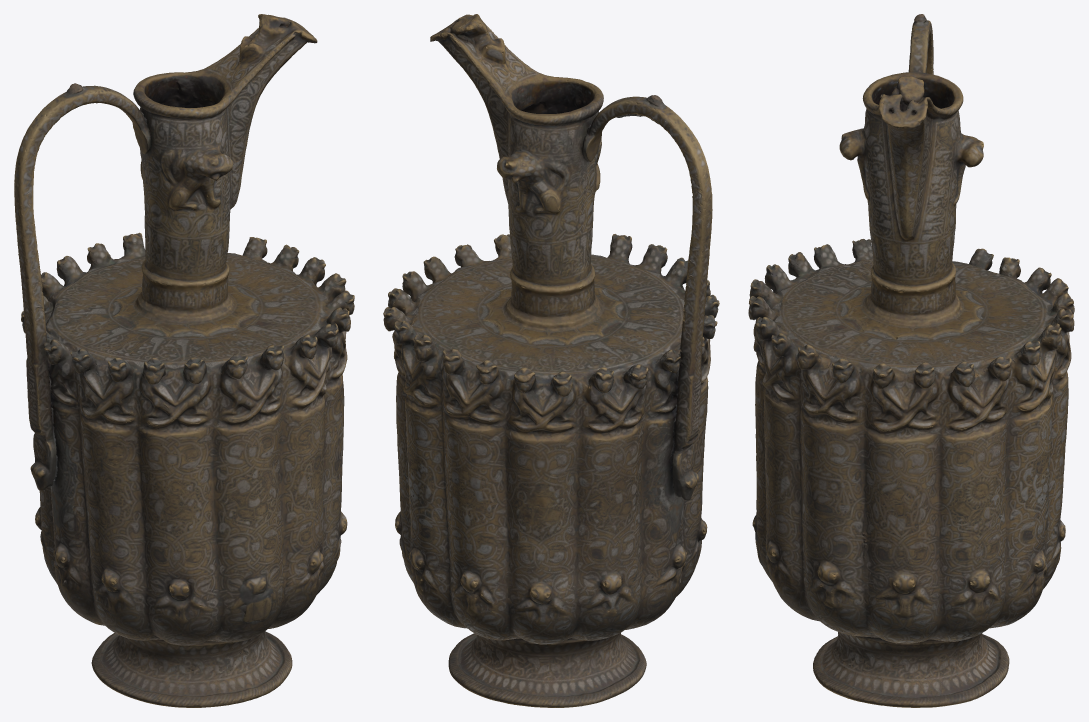
Rendered from ewer_khurasan_herat.glb.
3 renders of one model, left to right at view 1: azimuth 30°, elevation 25°; view 2: azimuth 150°, elevation 25°; view 3: azimuth 270°, elevation 25°, orthographic.
Visible parts, largest first — view 1: ADVIMG_44_15_Ewer_MASTER_5M_n3d; view 2: ADVIMG_44_15_Ewer_MASTER_5M_n3d; view 3: ADVIMG_44_15_Ewer_MASTER_5M_n3d.
Boxes of the visible parts, box(x1,y1,x2,y2) form: ADVIMG_44_15_Ewer_MASTER_5M_n3d: box(14, 14, 354, 707); ADVIMG_44_15_Ewer_MASTER_5M_n3d: box(383, 14, 719, 707); ADVIMG_44_15_Ewer_MASTER_5M_n3d: box(748, 14, 1074, 707).
Bounding box in the file's own units: 0.2018 × 0.3985 × 0.1872.
1 material, 1 textured.
